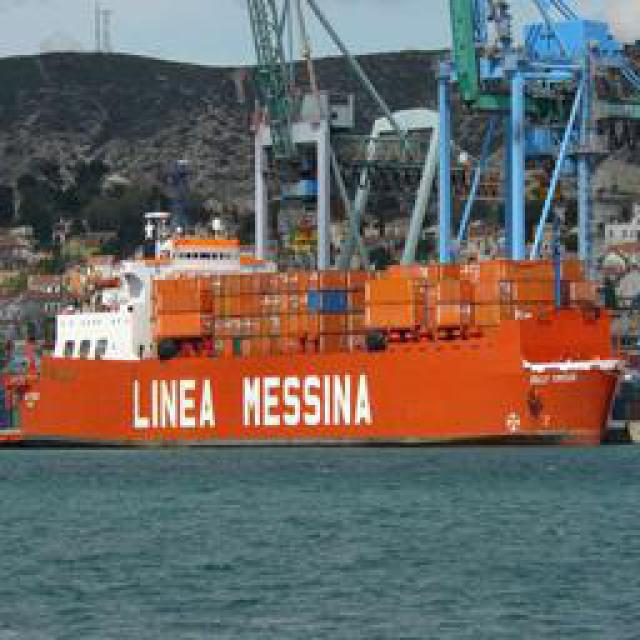Ship: (3, 1, 631, 484)
